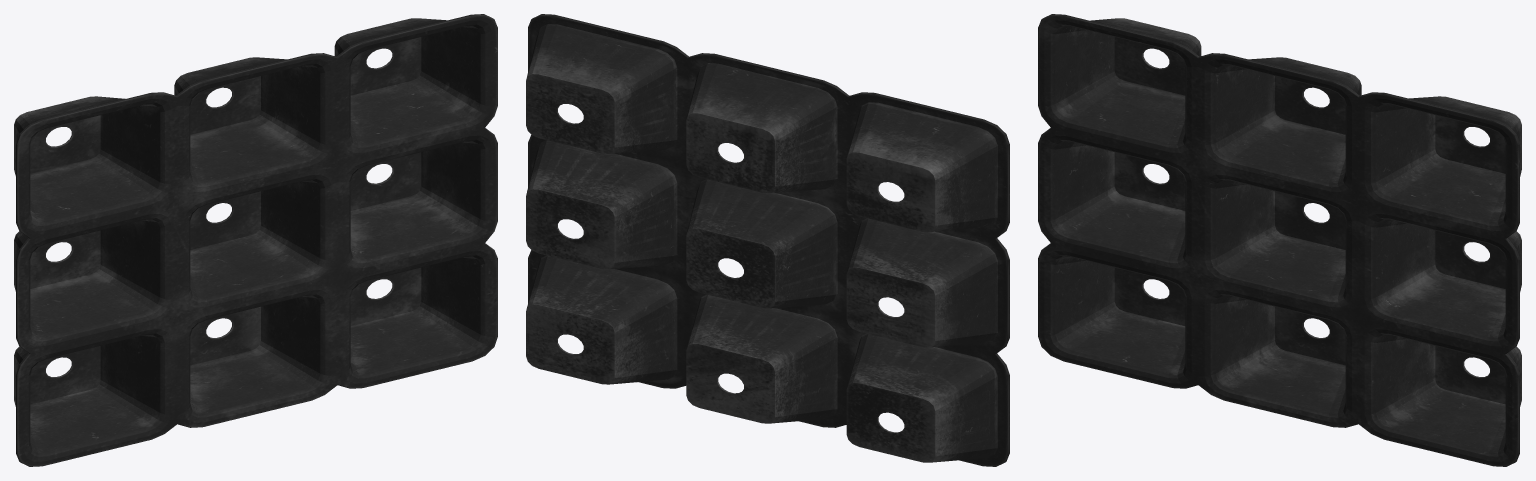
The model's file is seeding_tray_01.obj.
The picture shows the model from 3 angles, left to right: view 1: azimuth 30°, elevation 25°; view 2: azimuth 150°, elevation 25°; view 3: azimuth 330°, elevation 25°; orthographic projection.
Bounding box in the file's own units: 0.32 × 0.22 × 0.045.
Materials: 1 (1 with a texture image).
